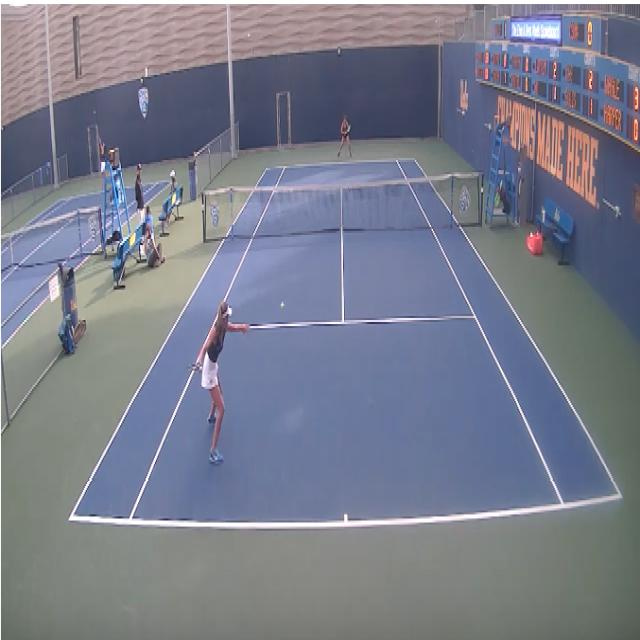ball: (281, 299, 285, 310)
